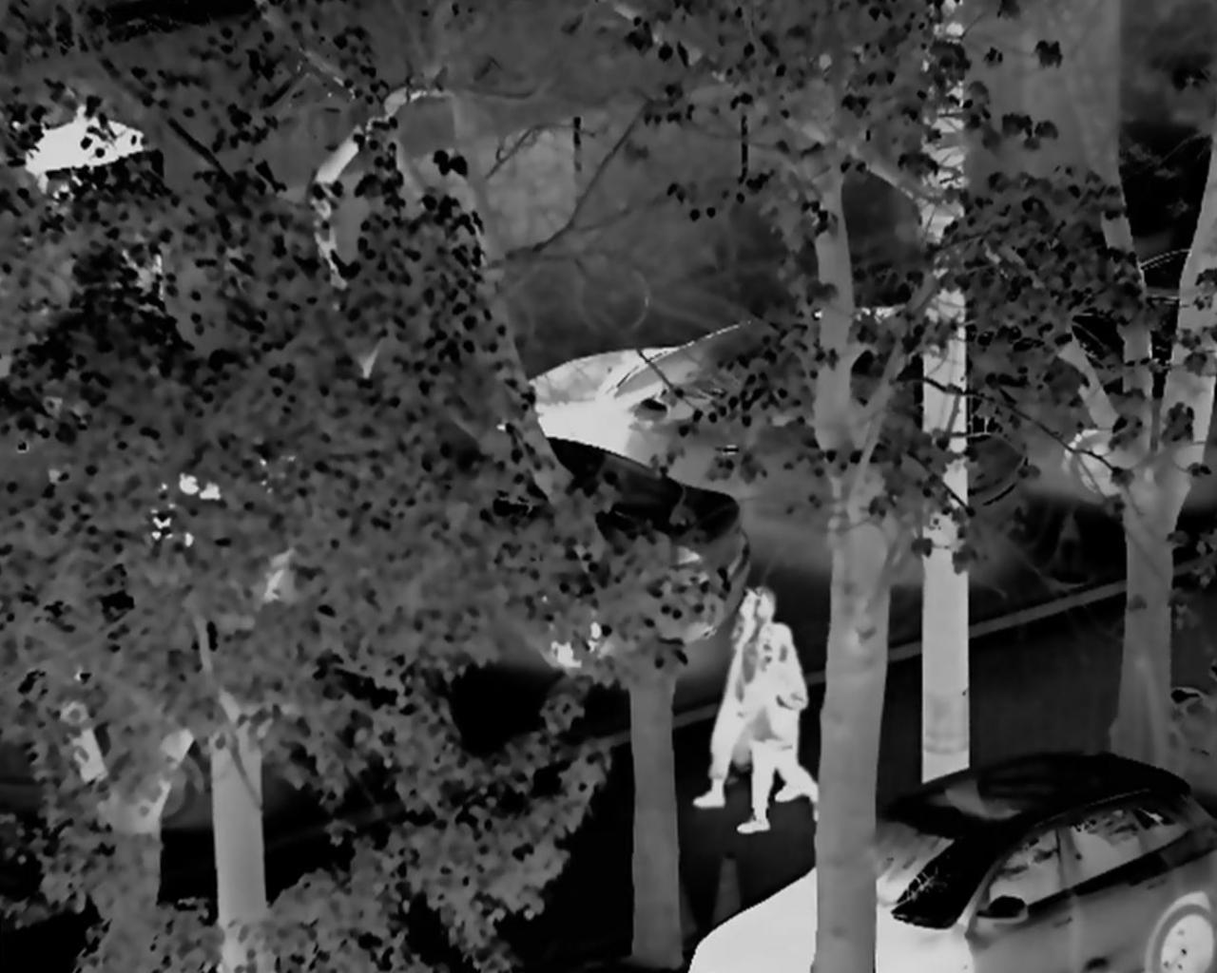person: (697, 581, 801, 802), (744, 625, 827, 837)
